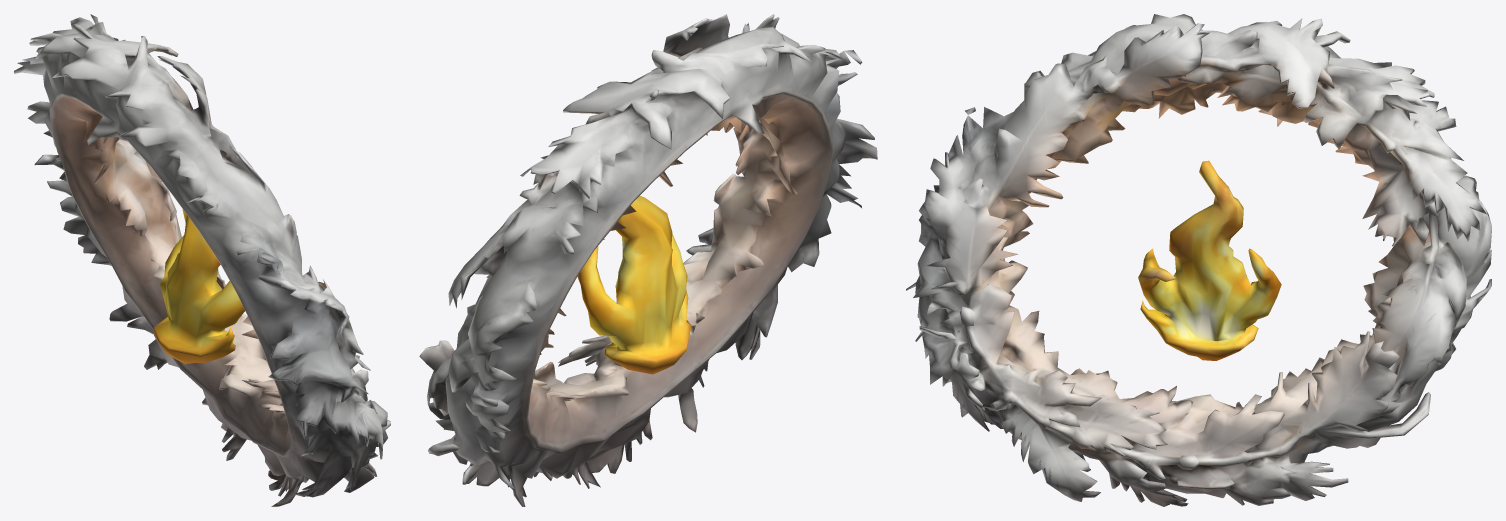
3 renders of one model, left to right at view 1: azimuth 30°, elevation 25°; view 2: azimuth 150°, elevation 25°; view 3: azimuth 270°, elevation 25°, orthographic. The views are drawn at different scales.
Parts seen in each view (by area): view 1: tripo_node_685d3b91-0cd2-4829-8f41-76215862209b; view 2: tripo_node_685d3b91-0cd2-4829-8f41-76215862209b; view 3: tripo_node_685d3b91-0cd2-4829-8f41-76215862209b.
Part boxes in pixels (box(x1,y1,x2,y2)): tripo_node_685d3b91-0cd2-4829-8f41-76215862209b: box(14, 14, 390, 506); tripo_node_685d3b91-0cd2-4829-8f41-76215862209b: box(419, 14, 877, 506); tripo_node_685d3b91-0cd2-4829-8f41-76215862209b: box(906, 14, 1491, 506).
Bounding box in the file's own units: 0.4423 × 0.8258 × 0.998.
Materials: 1 (1 with a texture image).
